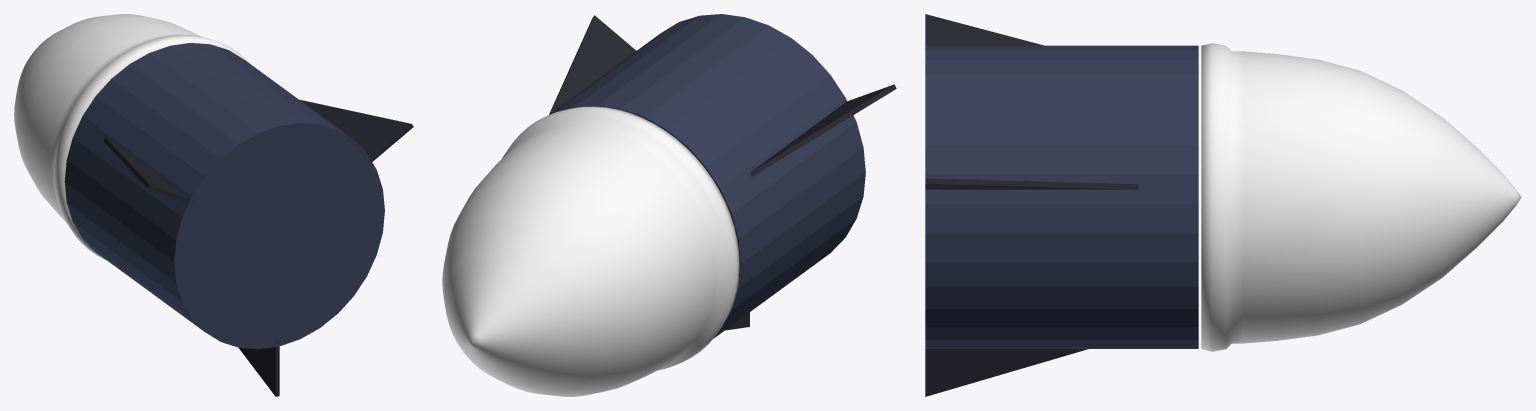
The model's file is dragon.glb.
3 renders of one model, left to right at view 1: azimuth 30°, elevation 25°; view 2: azimuth 150°, elevation 25°; view 3: azimuth 270°, elevation 25°, orthographic. The views are drawn at different scales.
Parts seen in each view (by area): view 1: Dragon; view 2: Dragon; view 3: Dragon.
Boxes of the visible parts, left/top/right/bottom form: Dragon: left=14, top=14, right=413, bottom=396; Dragon: left=442, top=14, right=896, bottom=396; Dragon: left=925, top=14, right=1521, bottom=396.
Size of the model in its own units: 2.78 by 2.71 by 4.32.
